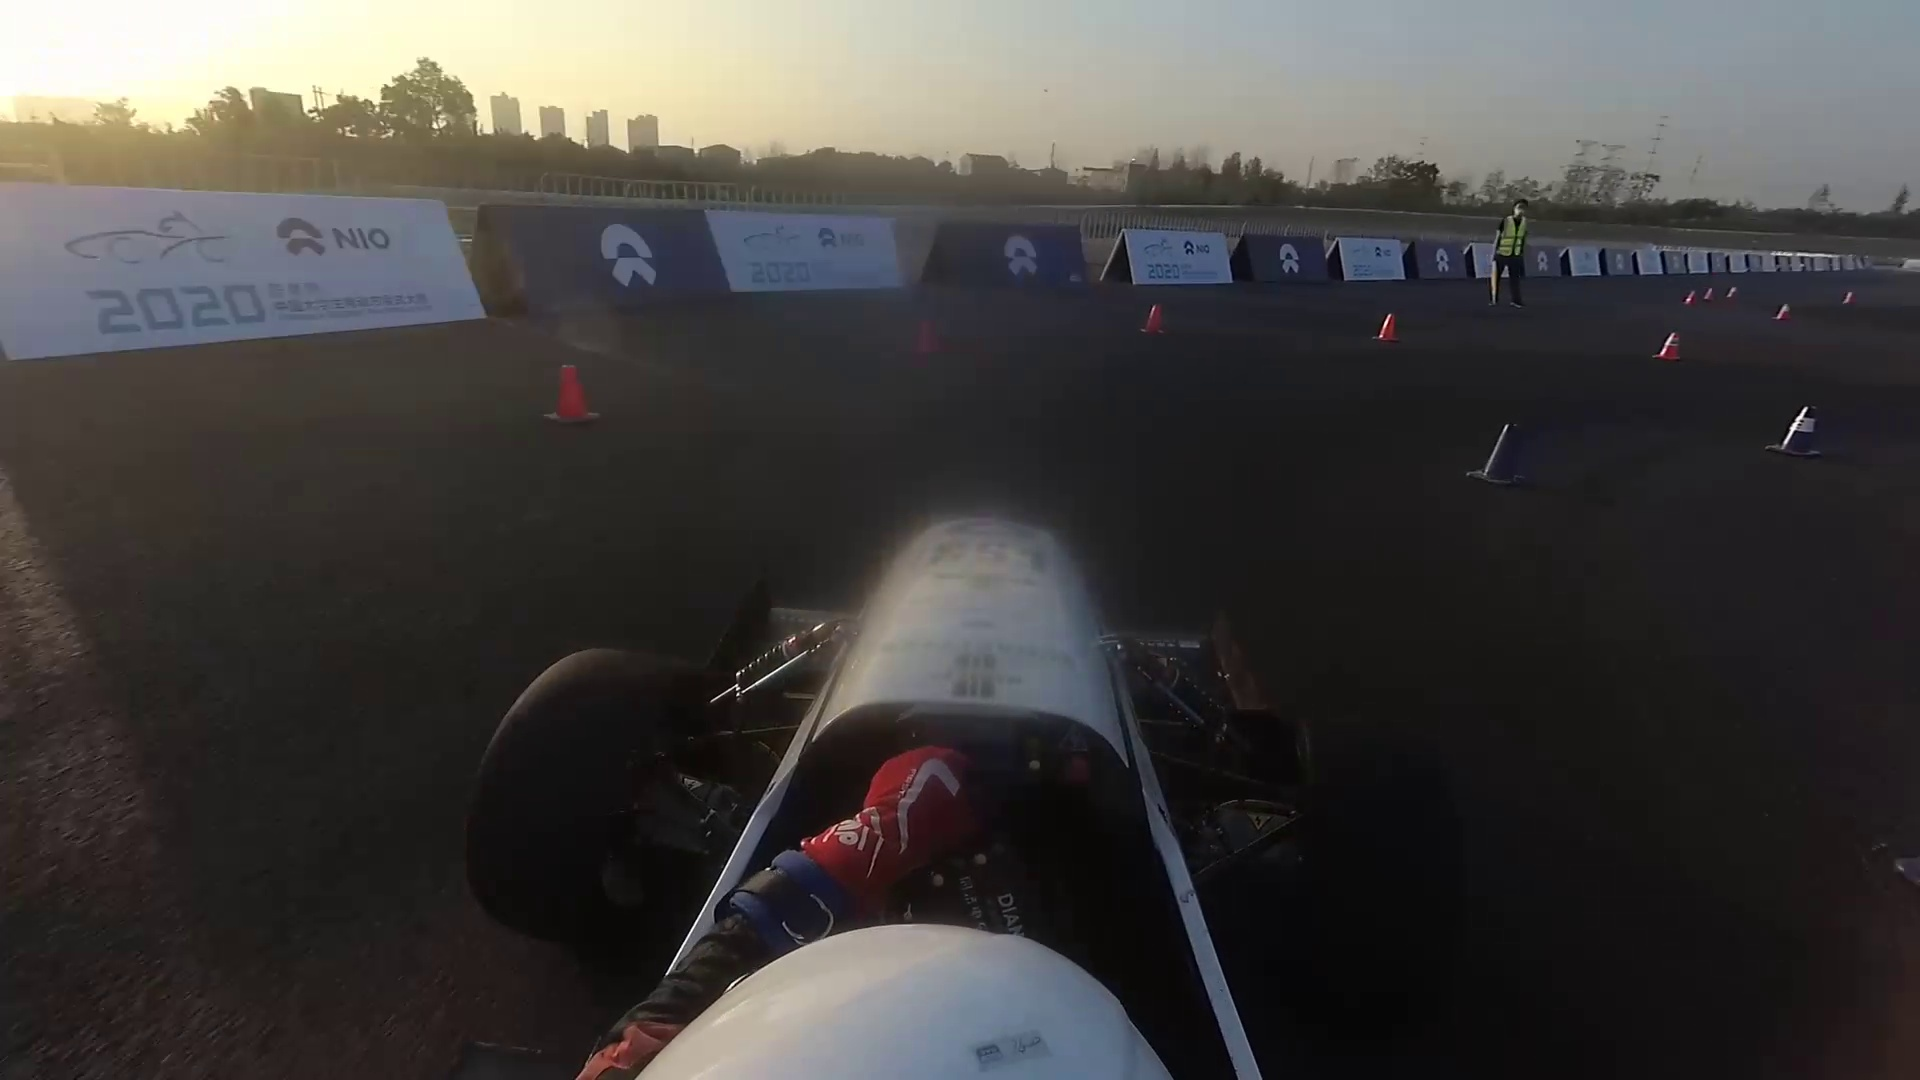blue_cone: (1472, 421, 1527, 491), (1770, 400, 1826, 459)
red_cone: (545, 369, 609, 425), (903, 314, 942, 349), (1371, 309, 1400, 348), (1654, 331, 1679, 365), (1139, 305, 1162, 330), (1768, 299, 1793, 320), (1680, 290, 1698, 306), (1842, 290, 1858, 305), (1726, 286, 1737, 301), (1704, 287, 1714, 301)
